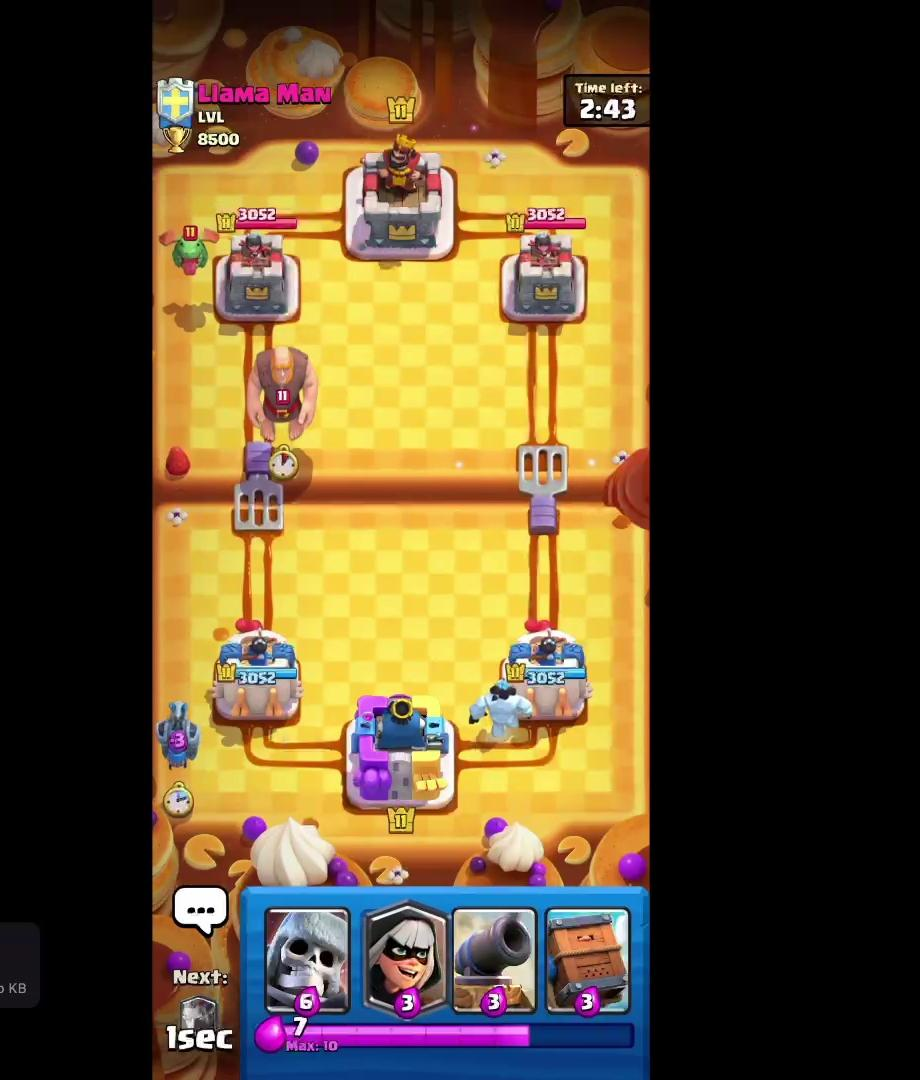Baby Dragon: (162, 224, 224, 278)
Giant: (242, 344, 321, 446)
